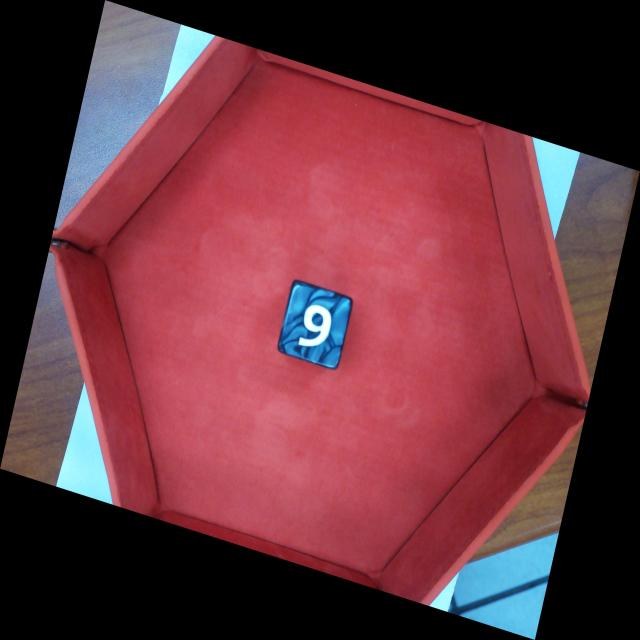dice: (281, 282, 355, 369)
